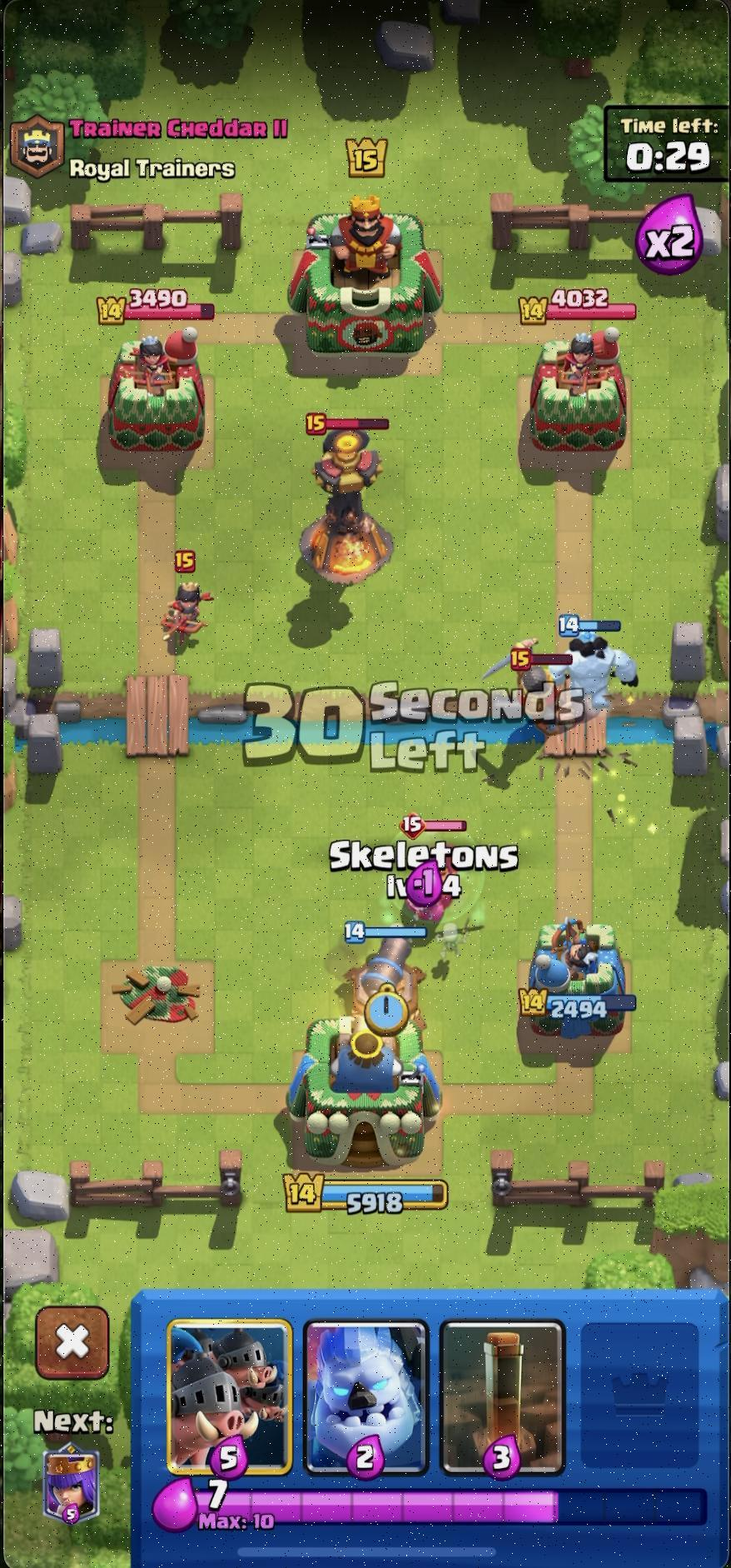card_archerqueen: (35, 1438, 104, 1530)
card_earthquake: (439, 1319, 566, 1483)
card_icegolem: (305, 1319, 431, 1482)
card_royalhogs: (162, 1316, 299, 1479)
